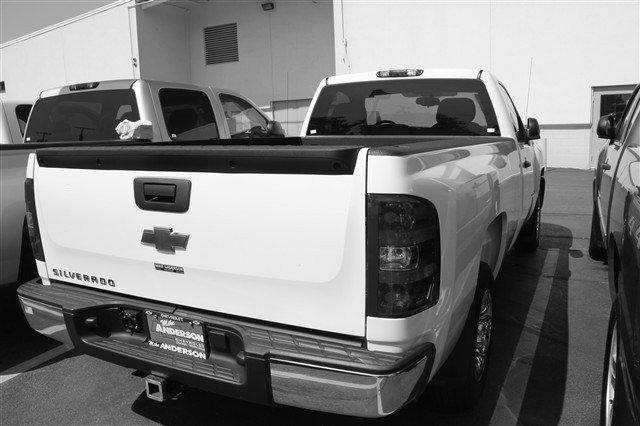car: (11, 61, 568, 423)
